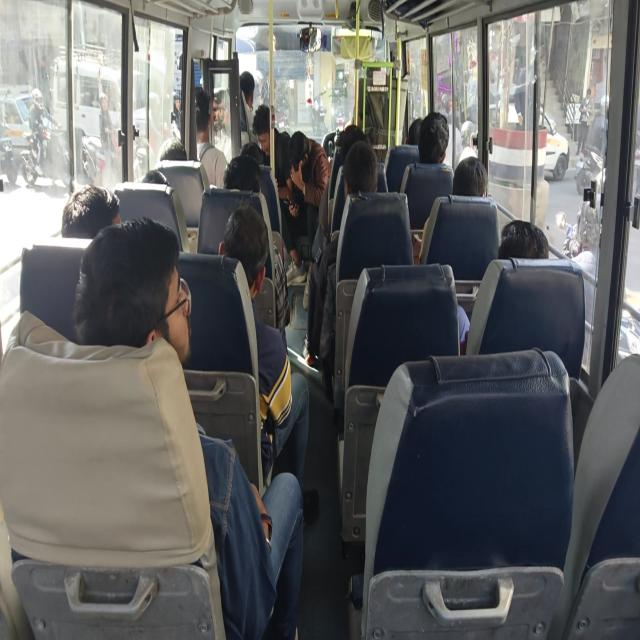person: (98, 231, 184, 338), (60, 168, 116, 251), (487, 222, 548, 276), (188, 76, 215, 136), (228, 207, 256, 258), (158, 139, 196, 173), (222, 156, 258, 191), (236, 70, 268, 109), (456, 165, 488, 199), (357, 56, 385, 94), (347, 149, 376, 184), (290, 128, 314, 169), (426, 115, 448, 159), (334, 130, 356, 164), (144, 171, 167, 188), (241, 142, 261, 160), (254, 109, 268, 132)
